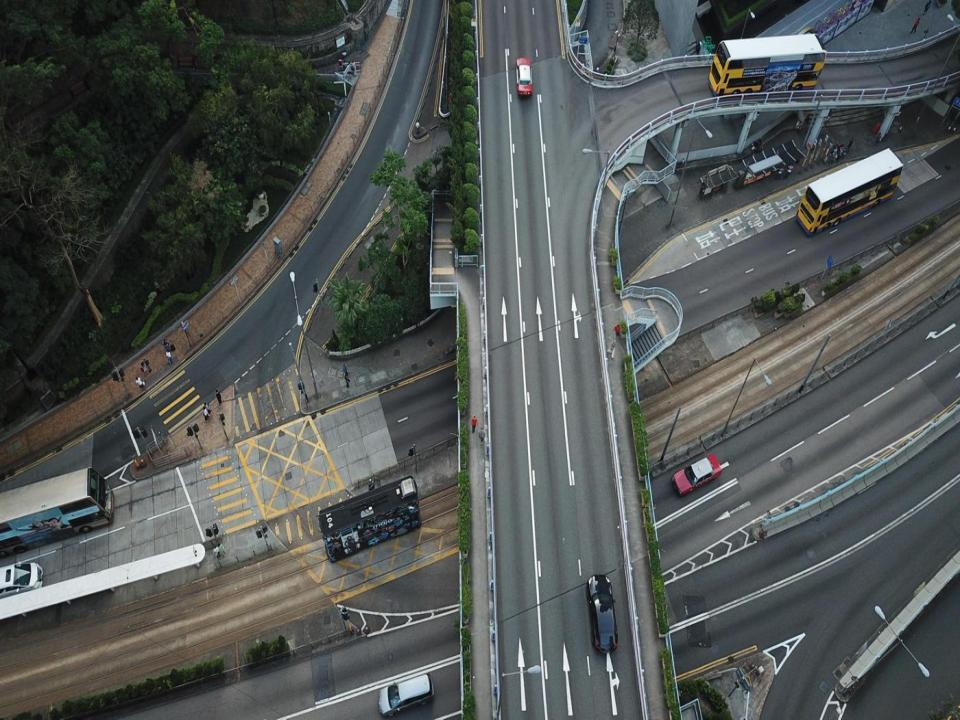bus: (0, 467, 115, 559), (314, 475, 426, 564), (796, 147, 905, 237), (707, 32, 829, 100), (0, 563, 46, 600)
car: (584, 574, 624, 655), (377, 672, 436, 717), (671, 453, 722, 497), (516, 56, 534, 100)
